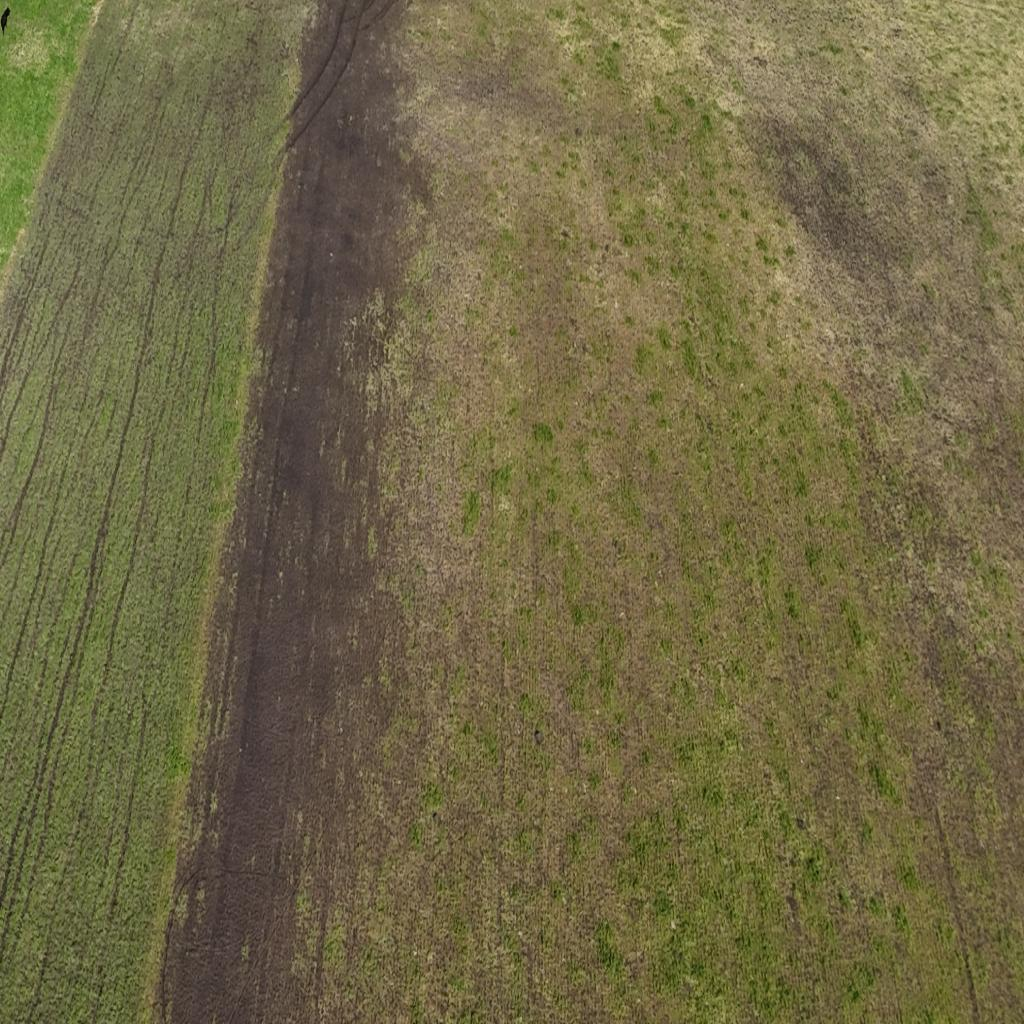cow: (0, 7, 11, 37)
